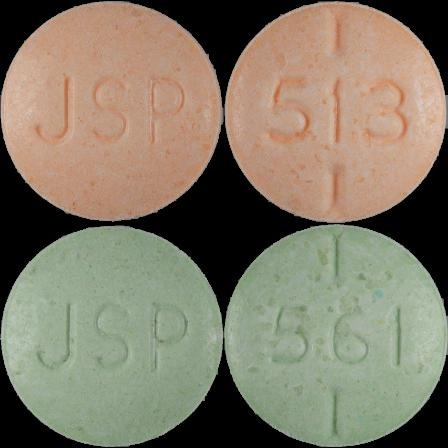63187-572: (0, 0, 224, 224)
